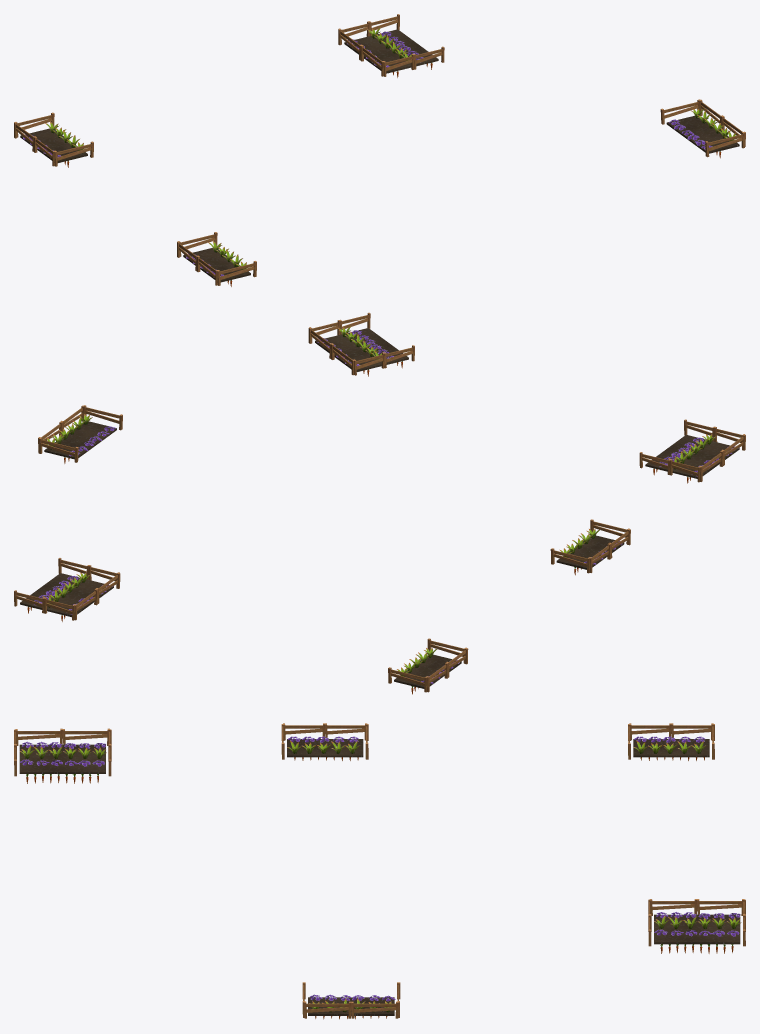
File: Gardens.glb
The picture shows the model from 3 angles, top to bottom: view 1: azimuth 30°, elevation 25°; view 2: azimuth 150°, elevation 25°; view 3: azimuth 270°, elevation 25°; orthographic projection. The views are drawn at different scales.
Parts seen in each view (by area): view 1: GSoil_Clara, GSoil_Elias, GSoil_Hugo, GSoil_John, GSoil_Sophia; view 2: GSoil_Clara, GSoil_Elias, GSoil_Hugo, GSoil_Sophia, GSoil_John; view 3: GSoil_Clara, GSoil_Elias, GSoil_Sophia, GSoil_John, GSoil_Hugo.
Boxes of the visible parts, x1,y1,x2,y2 form: GSoil_Clara: (344, 29, 438, 73); GSoil_Elias: (315, 328, 408, 371); GSoil_Hugo: (666, 115, 739, 153); GSoil_John: (20, 128, 87, 162); GSoil_Sophia: (183, 248, 250, 282); GSoil_Clara: (20, 573, 113, 617); GSoil_Elias: (645, 434, 739, 478); GSoil_Hugo: (44, 421, 116, 459); GSoil_Sophia: (556, 535, 624, 569); GSoil_John: (394, 654, 461, 688); GSoil_Clara: (654, 914, 740, 944); GSoil_Elias: (19, 744, 105, 773); GSoil_Sophia: (287, 739, 363, 757); GSoil_John: (633, 739, 709, 757); GSoil_Hugo: (308, 997, 394, 1015).
Bounding box in the file's own units: 25.22 × 1.14 × 27.9.
Materials: 5 (5 with a texture image).
